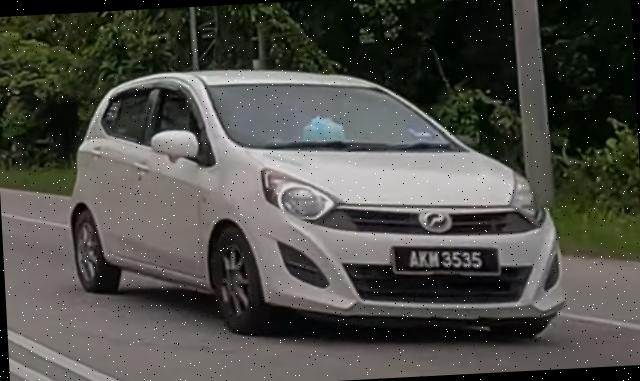License_Plate: (389, 240, 502, 284)
car: (61, 50, 570, 363)
